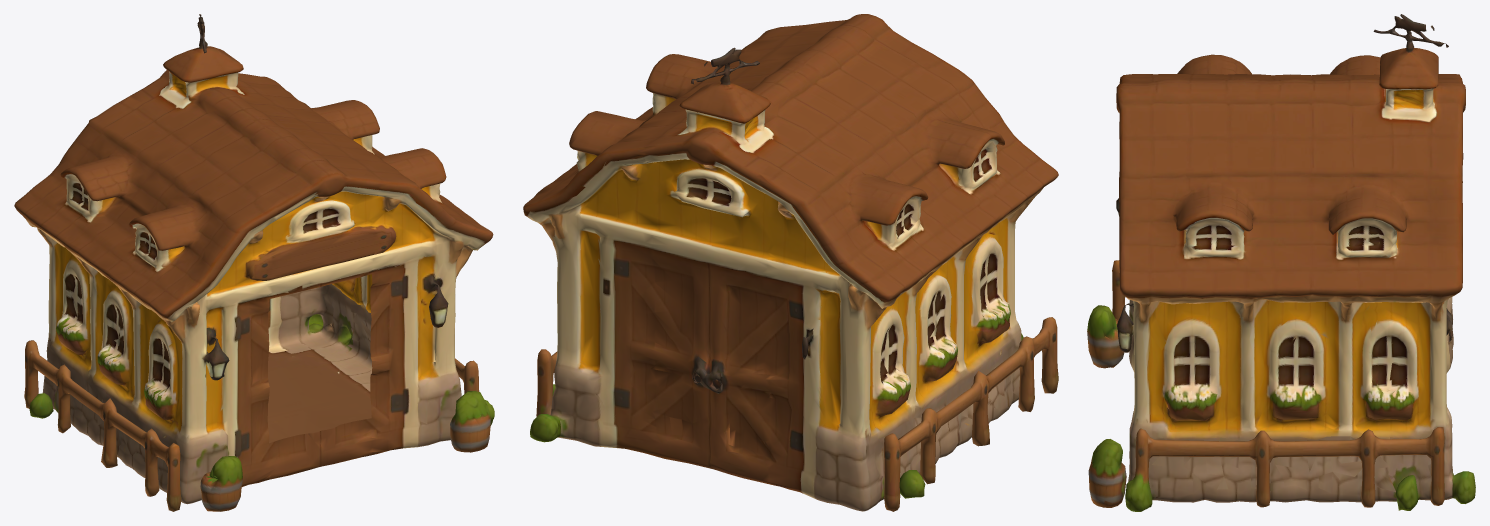
3 views of the same model, side by side, from view 1: azimuth 30°, elevation 25°; view 2: azimuth 150°, elevation 25°; view 3: azimuth 270°, elevation 25° (orthographic). The views are drawn at different scales.
Parts seen in each view (by area): view 1: tripo_node_f0570f90-de88-4a2d-b407-697d074fe21c; view 2: tripo_node_f0570f90-de88-4a2d-b407-697d074fe21c; view 3: tripo_node_f0570f90-de88-4a2d-b407-697d074fe21c.
Boxes of the visible parts, box(x1,y1,x2,y2) form: tripo_node_f0570f90-de88-4a2d-b407-697d074fe21c: box(14, 14, 494, 511); tripo_node_f0570f90-de88-4a2d-b407-697d074fe21c: box(523, 14, 1058, 511); tripo_node_f0570f90-de88-4a2d-b407-697d074fe21c: box(1087, 14, 1475, 511).
Bounding box in the file's own units: 3.57 × 3.6 × 3.09.
Materials: 1 (1 with a texture image).
